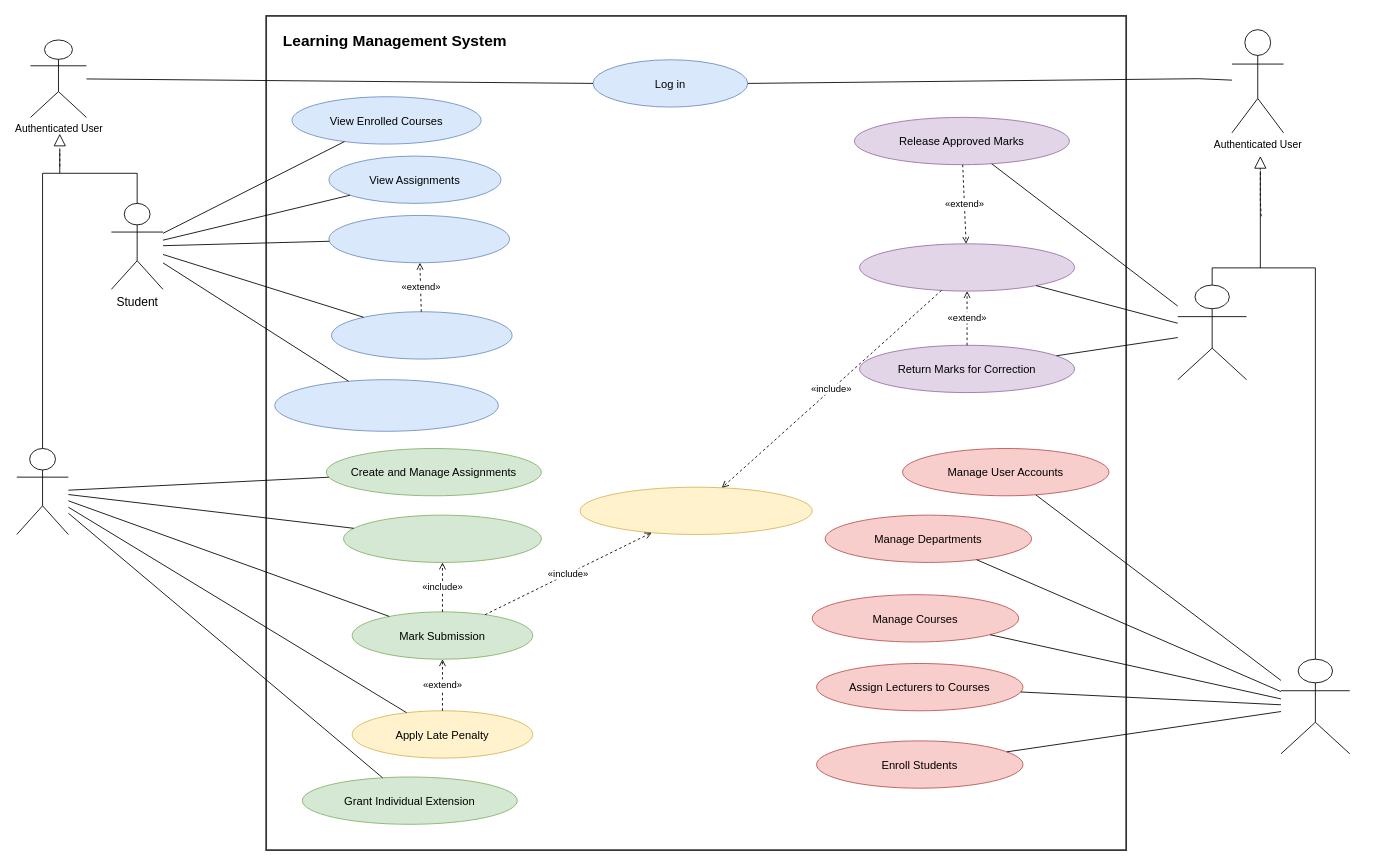
The diagram is 1387 pixels wide and 865 high, and some of its shapes have lost their labels. The shapes that lost their labels are listed below. From the top down, each one's centre as x and y in pixels, then its label:
At pixel 419 239: "Submit Assignment".
At pixel 967 267: "Review and Moderate Marks".
At pixel 421 335: "Resubmit Assignment".
At pixel 1212 332: "Head of Department (HoD)".
At pixel 386 405: "View Released Marks and Feedback".
At pixel 42 491: "Lecturer".
At pixel 695 510: "Record Mark Change (Audit Trail)".
At pixel 442 538: "Provide Feedback".
At pixel 1315 706: "System Administrator".
